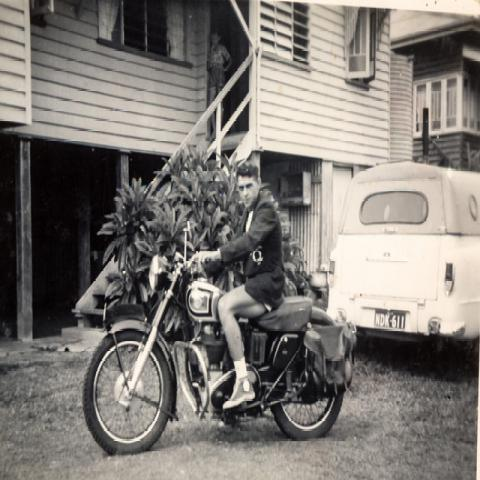motorcycle: (90, 222, 354, 461)
truck: (324, 164, 479, 354)
